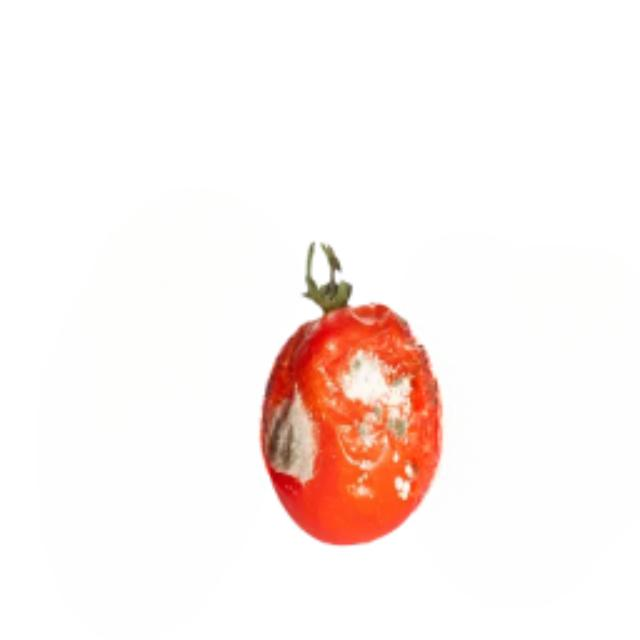defect: (254, 304, 452, 550)
